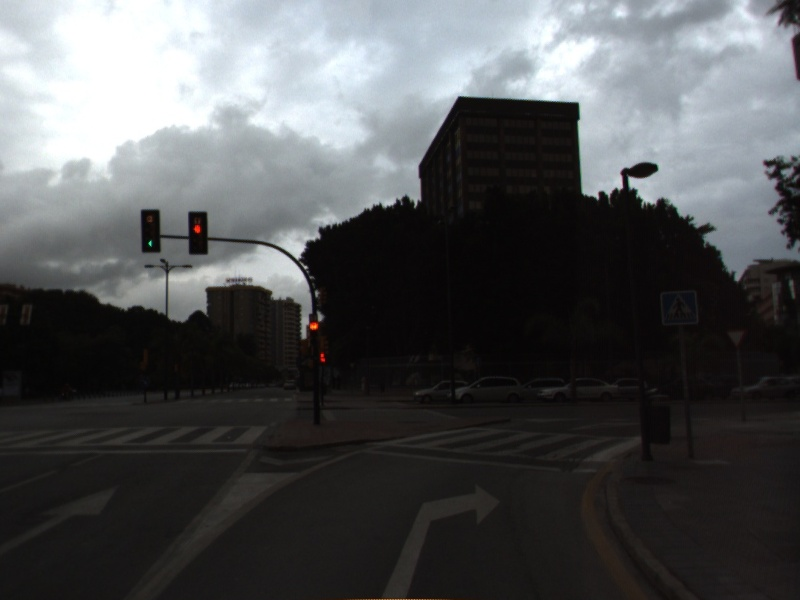RIGHT: (378, 478, 505, 600)
STRAIGHT: (1, 478, 126, 553)
